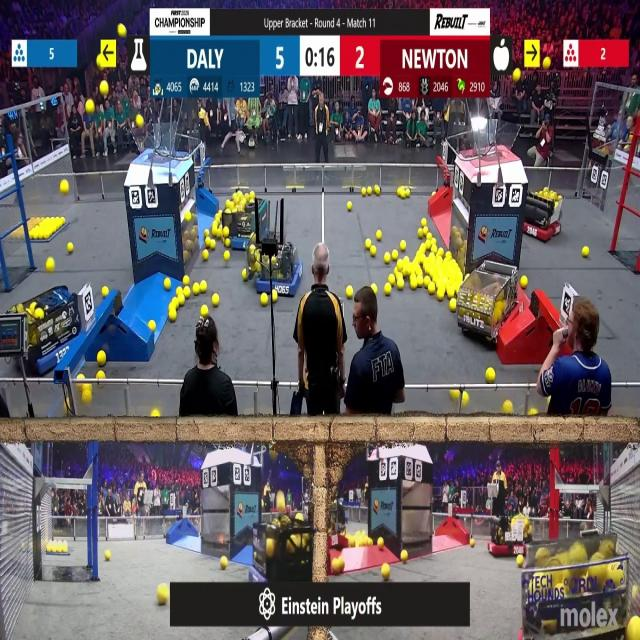ball_airborne: (276, 491, 286, 511), (512, 68, 522, 82), (86, 100, 95, 114), (100, 80, 108, 95), (116, 26, 125, 38), (136, 114, 144, 127), (543, 58, 550, 70)
ball_ground: (335, 558, 345, 574), (486, 369, 496, 384), (502, 402, 512, 416), (45, 259, 54, 274), (382, 564, 390, 579), (98, 352, 107, 365), (521, 276, 528, 289), (452, 389, 460, 400), (583, 246, 590, 258), (347, 286, 354, 298), (400, 552, 407, 564), (262, 293, 269, 305), (220, 557, 227, 569), (201, 281, 208, 293), (202, 305, 209, 317), (170, 310, 177, 322), (411, 277, 418, 289), (182, 286, 190, 296), (390, 250, 398, 260), (192, 283, 199, 294), (529, 409, 537, 418), (242, 270, 248, 282), (396, 280, 403, 290), (448, 287, 455, 297), (272, 291, 278, 302), (385, 284, 391, 295), (450, 301, 456, 312), (518, 556, 524, 567), (388, 275, 395, 284), (384, 252, 390, 262), (399, 241, 405, 251), (204, 250, 210, 260), (102, 286, 108, 296), (68, 243, 74, 253), (208, 240, 214, 250), (223, 250, 229, 260), (223, 239, 230, 247), (418, 230, 424, 239), (183, 276, 189, 285), (377, 231, 382, 241), (214, 295, 219, 305), (98, 370, 105, 377), (150, 323, 156, 331), (176, 286, 182, 294), (370, 247, 375, 256), (371, 284, 376, 293), (152, 411, 158, 418), (106, 551, 110, 561), (348, 202, 352, 211), (102, 286, 105, 296)
goal: (464, 120, 520, 159)
robot_blue: (8, 286, 86, 379), (253, 240, 303, 296), (226, 190, 267, 251), (228, 226, 255, 250)
robot_red: (455, 274, 517, 342), (523, 187, 561, 242), (488, 515, 532, 558)
